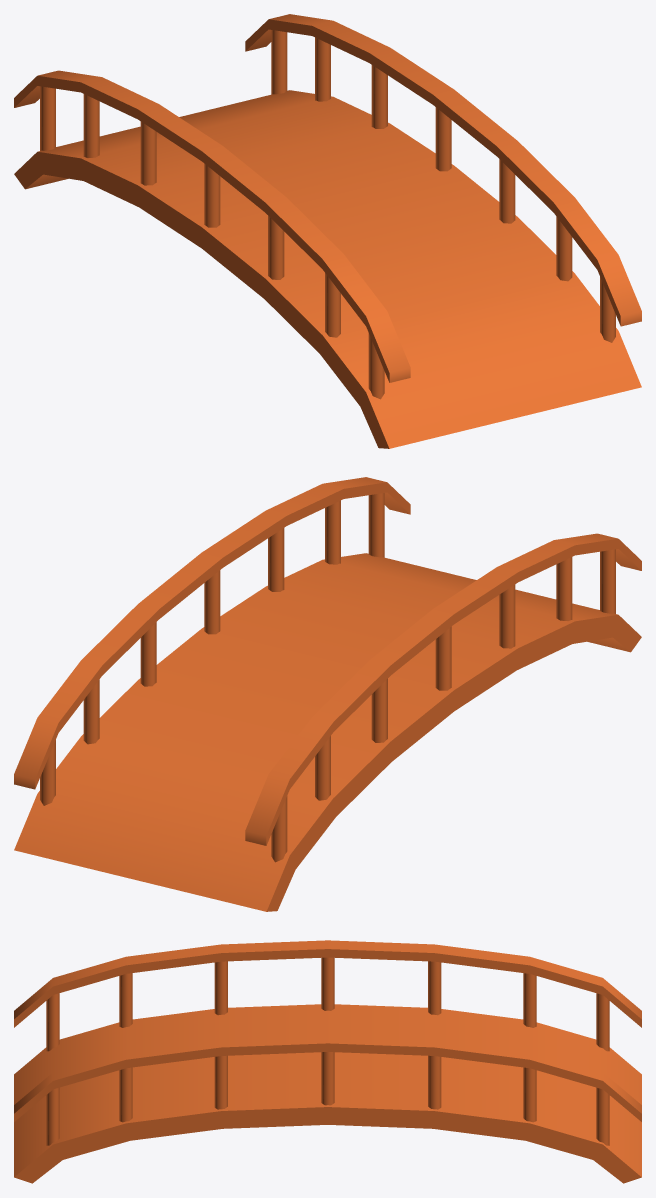
Rendered from Bridge.fbx.
3 renders of one model, top to bottom at view 1: azimuth 30°, elevation 25°; view 2: azimuth 150°, elevation 25°; view 3: azimuth 270°, elevation 25°, orthographic. The views are drawn at different scales.
Visible parts, largest first — view 1: Plane; view 2: Plane; view 3: Plane.
Boxes of the visible parts, bbox=[...] form: Plane: bbox=[14, 14, 641, 448]; Plane: bbox=[14, 477, 641, 911]; Plane: bbox=[14, 940, 641, 1183].
Size of the model in its own units: 2 by 1.27 by 5.15.
